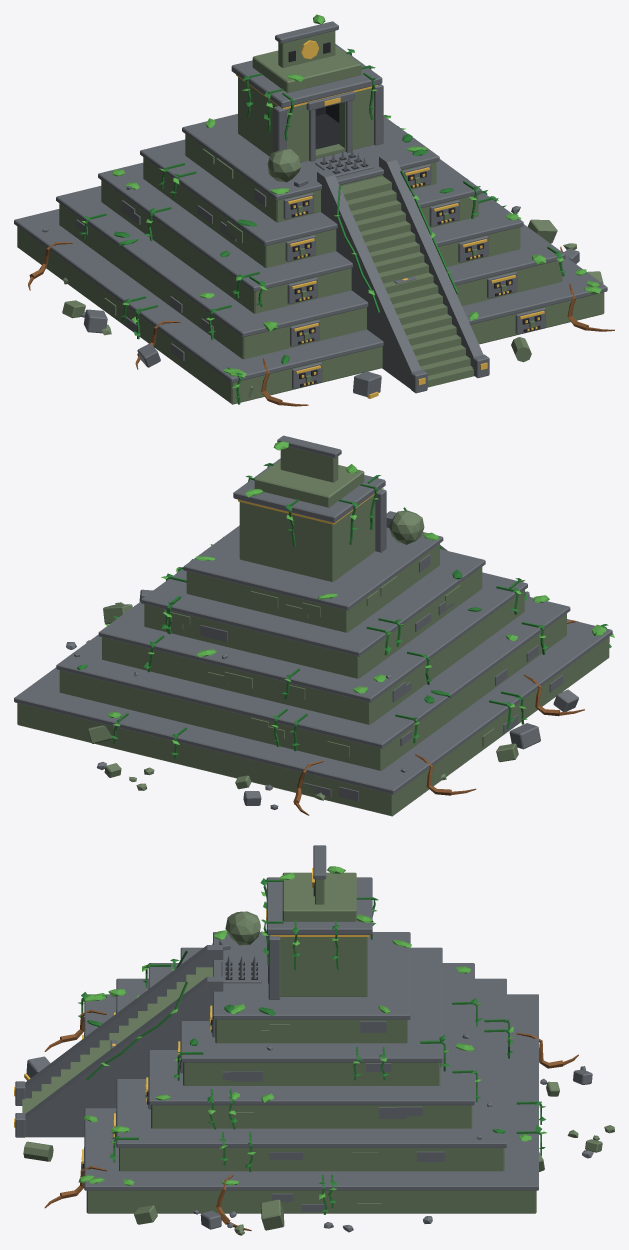
Rendered from temple.glb.
3 renders of one model, top to bottom at view 1: azimuth 30°, elevation 25°; view 2: azimuth 150°, elevation 25°; view 3: azimuth 270°, elevation 25°, orthographic. The views are drawn at different scales.
Visible parts, largest first — view 1: Pyramid, Shrine_Detail, Shrine, Vines, Rubble, Moss, Roots, RollingBoulder, SpikeTrap; view 2: Pyramid, Shrine_Detail, Shrine, Vines, Rubble, Moss, Roots, RollingBoulder; view 3: Pyramid, Shrine_Detail, Shrine, Vines, Rubble, Moss, Roots, SpikeTrap, RollingBoulder.
Boxes of the visible parts, <box> form: Pyramid: <box>14,114,607,404</box>; Shrine_Detail: <box>231,21,383,161</box>; Shrine: <box>238,77,373,162</box>; Vines: <box>79,48,565,404</box>; Rubble: <box>42,186,603,398</box>; Moss: <box>112,14,601,377</box>; Roots: <box>28,242,614,406</box>; RollingBoulder: <box>267,149,300,182</box>; SpikeTrap: <box>315,148,373,177</box>; Pyramid: <box>14,511,612,816</box>; Shrine_Detail: <box>233,435,386,552</box>; Shrine: <box>239,495,375,581</box>; Vines: <box>105,463,614,758</box>; Rubble: <box>66,567,578,809</box>; Moss: <box>77,441,606,717</box>; Roots: <box>293,620,584,815</box>; RollingBoulder: <box>388,510,424,544</box>; Pyramid: <box>14,932,538,1213</box>; Shrine_Detail: <box>266,845,372,999</box>; Shrine: <box>280,937,367,996</box>; Vines: <box>77,878,546,1214</box>; Rubble: <box>23,1034,614,1235</box>; Moss: <box>78,866,531,1185</box>; Roots: <box>44,1009,578,1230</box>; SpikeTrap: <box>221,955,261,983</box>; RollingBoulder: <box>225,911,260,945</box>.
Size of the model in its own units: 68.57 by 36.08 by 74.79.
